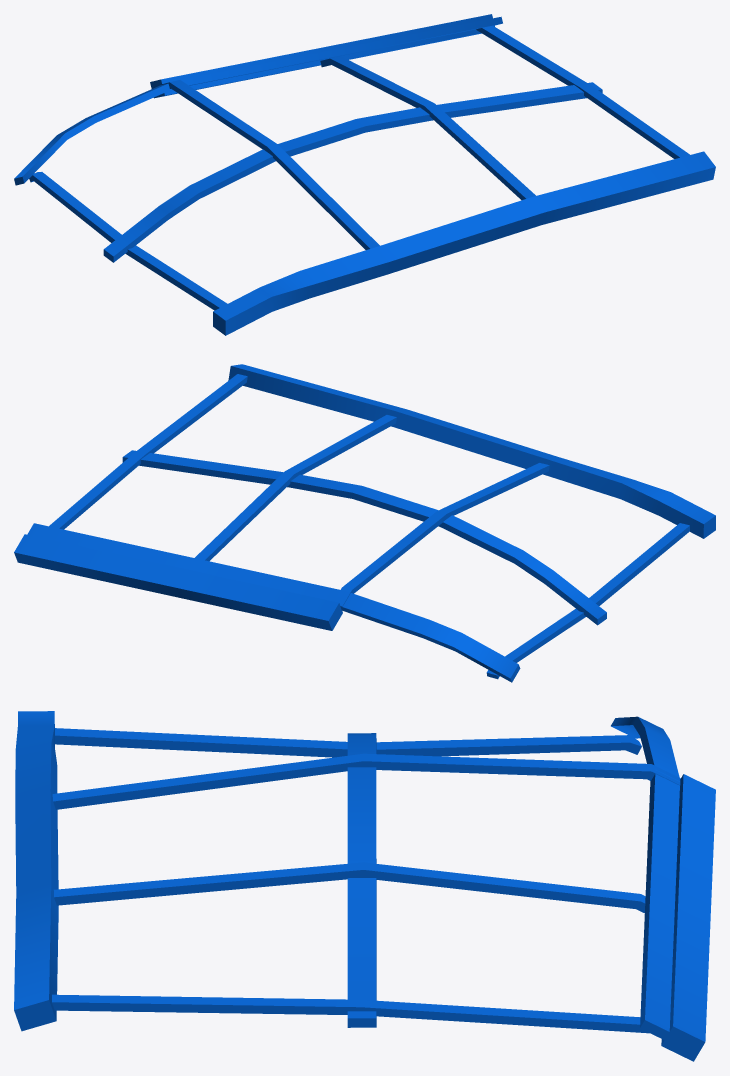
The model's file is Twisted_Metal_03.fbx.
The picture shows the model from 3 angles, top to bottom: view 1: azimuth 30°, elevation 25°; view 2: azimuth 150°, elevation 25°; view 3: azimuth 270°, elevation 25°; orthographic projection. The views are drawn at different scales.
Visible parts, largest first — view 1: Twisted_Metal_03; view 2: Twisted_Metal_03; view 3: Twisted_Metal_03.
Boxes of the visible parts, left/top/right/bottom form: Twisted_Metal_03: left=14, top=14, right=715, bottom=335; Twisted_Metal_03: left=14, top=364, right=715, bottom=682; Twisted_Metal_03: left=14, top=711, right=715, bottom=1061.
Size of the model in its own units: 397 by 58.9 by 336.
